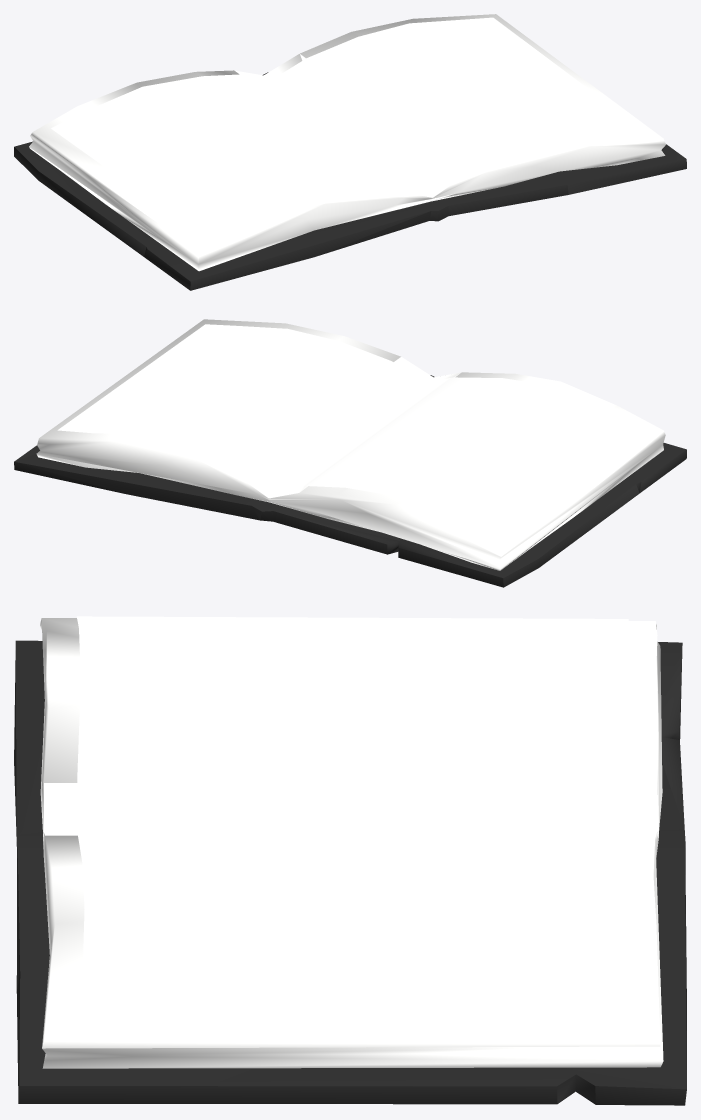
3 views of the same model, one above another, from view 1: azimuth 30°, elevation 25°; view 2: azimuth 150°, elevation 25°; view 3: azimuth 270°, elevation 25° (orthographic). The views are drawn at different scales.
Visible parts, largest first — view 1: CyberPunkGuestBookOpen.002; view 2: CyberPunkGuestBookOpen.002; view 3: CyberPunkGuestBookOpen.002.
Part boxes in pixels (x1=…): CyberPunkGuestBookOpen.002: x1=14, y1=14, x2=686, y2=290; CyberPunkGuestBookOpen.002: x1=14, y1=319, x2=686, y2=587; CyberPunkGuestBookOpen.002: x1=14, y1=616, x2=686, y2=1105.
Size of what is drawn, in the model's own units: 0.5116 by 0.058 by 0.3243.
Materials: 2 (2 with a texture image).
